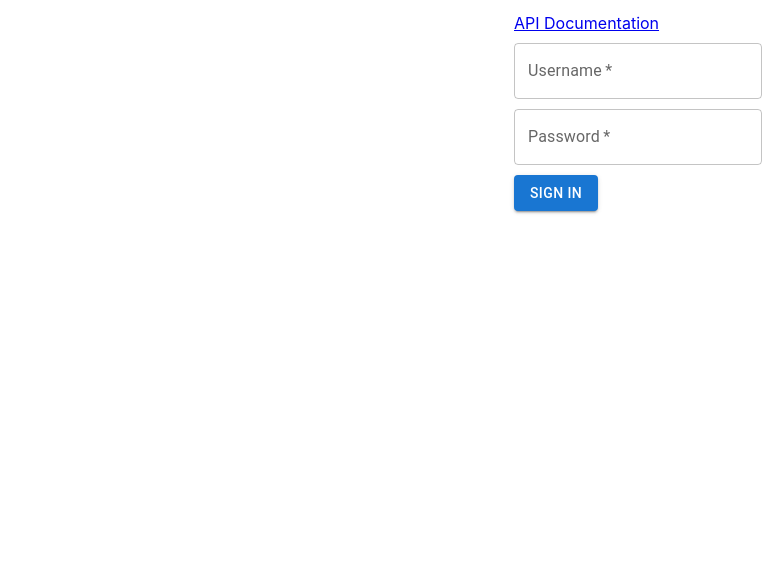
it: Testing Login Component › should fail login and display message on snackbar
The width and height of the screenshot is (779, 562).
Step 1. Click the button with test id "button-login" → {"x": 556, "y": 193}, box [514,175,598,211]
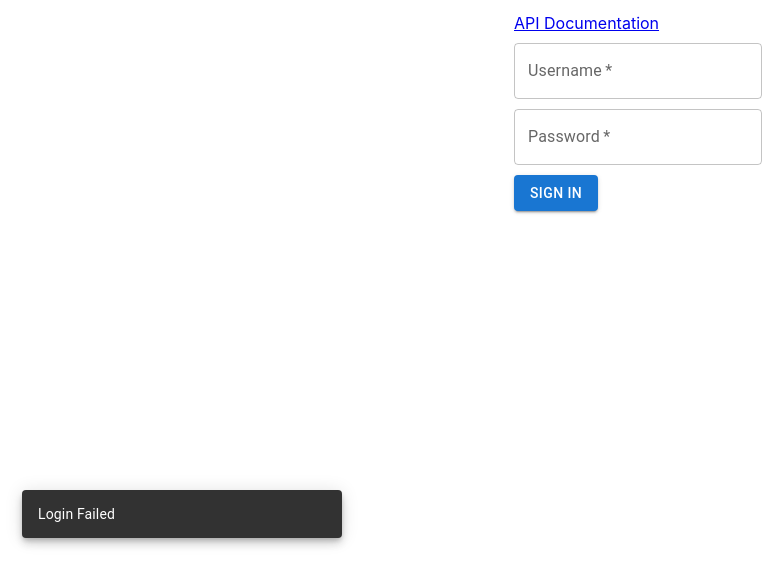
Expected: the element with test id "snackbar-status" reads "Login Failed", [38,506,115,522]
